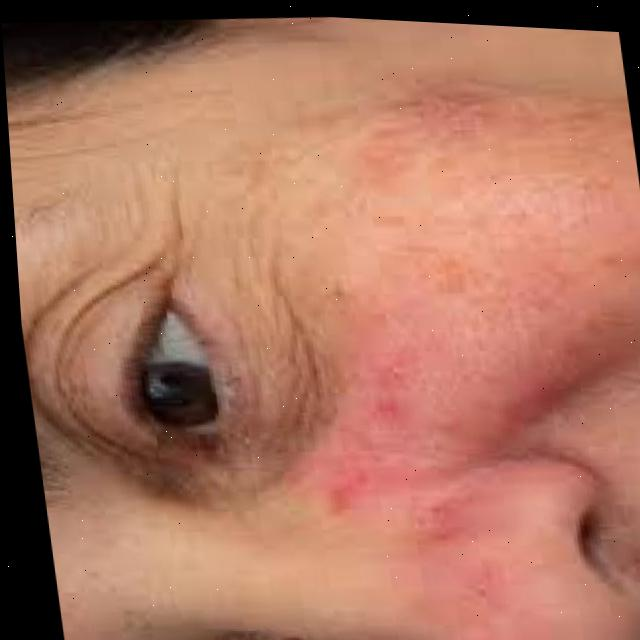Rosacea: (303, 348, 425, 516)
